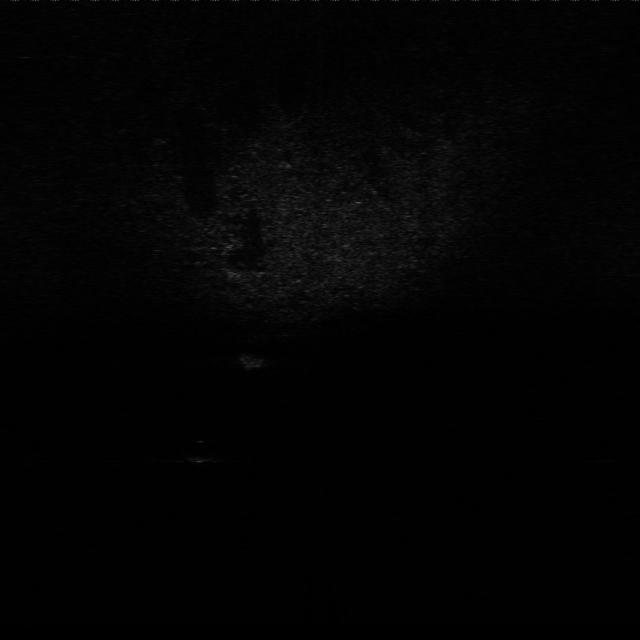ball: (186, 435, 217, 463)
cube: (237, 348, 268, 372)
